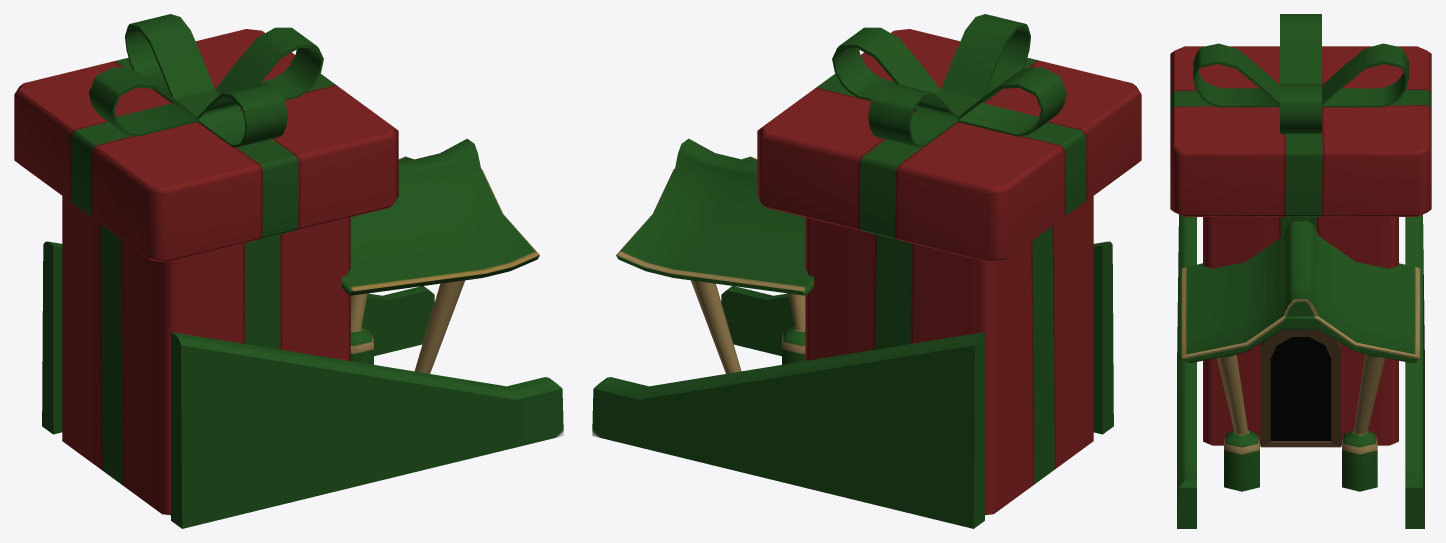
Rendered from Present_entrance.fbx.
The picture shows the model from 3 angles, left to right: view 1: azimuth 30°, elevation 25°; view 2: azimuth 150°, elevation 25°; view 3: azimuth 270°, elevation 25°; orthographic projection. The views are drawn at different scales.
Parts seen in each view (by area): view 1: polySurface165; view 2: polySurface165; view 3: polySurface165.
Boxes of the visible parts, <box> form: polySurface165: <box>14,14,563,528</box>; polySurface165: <box>592,14,1141,528</box>; polySurface165: <box>1170,14,1431,528</box>.
Size of the model in its own units: 0.0715 by 0.066 by 0.0443.
